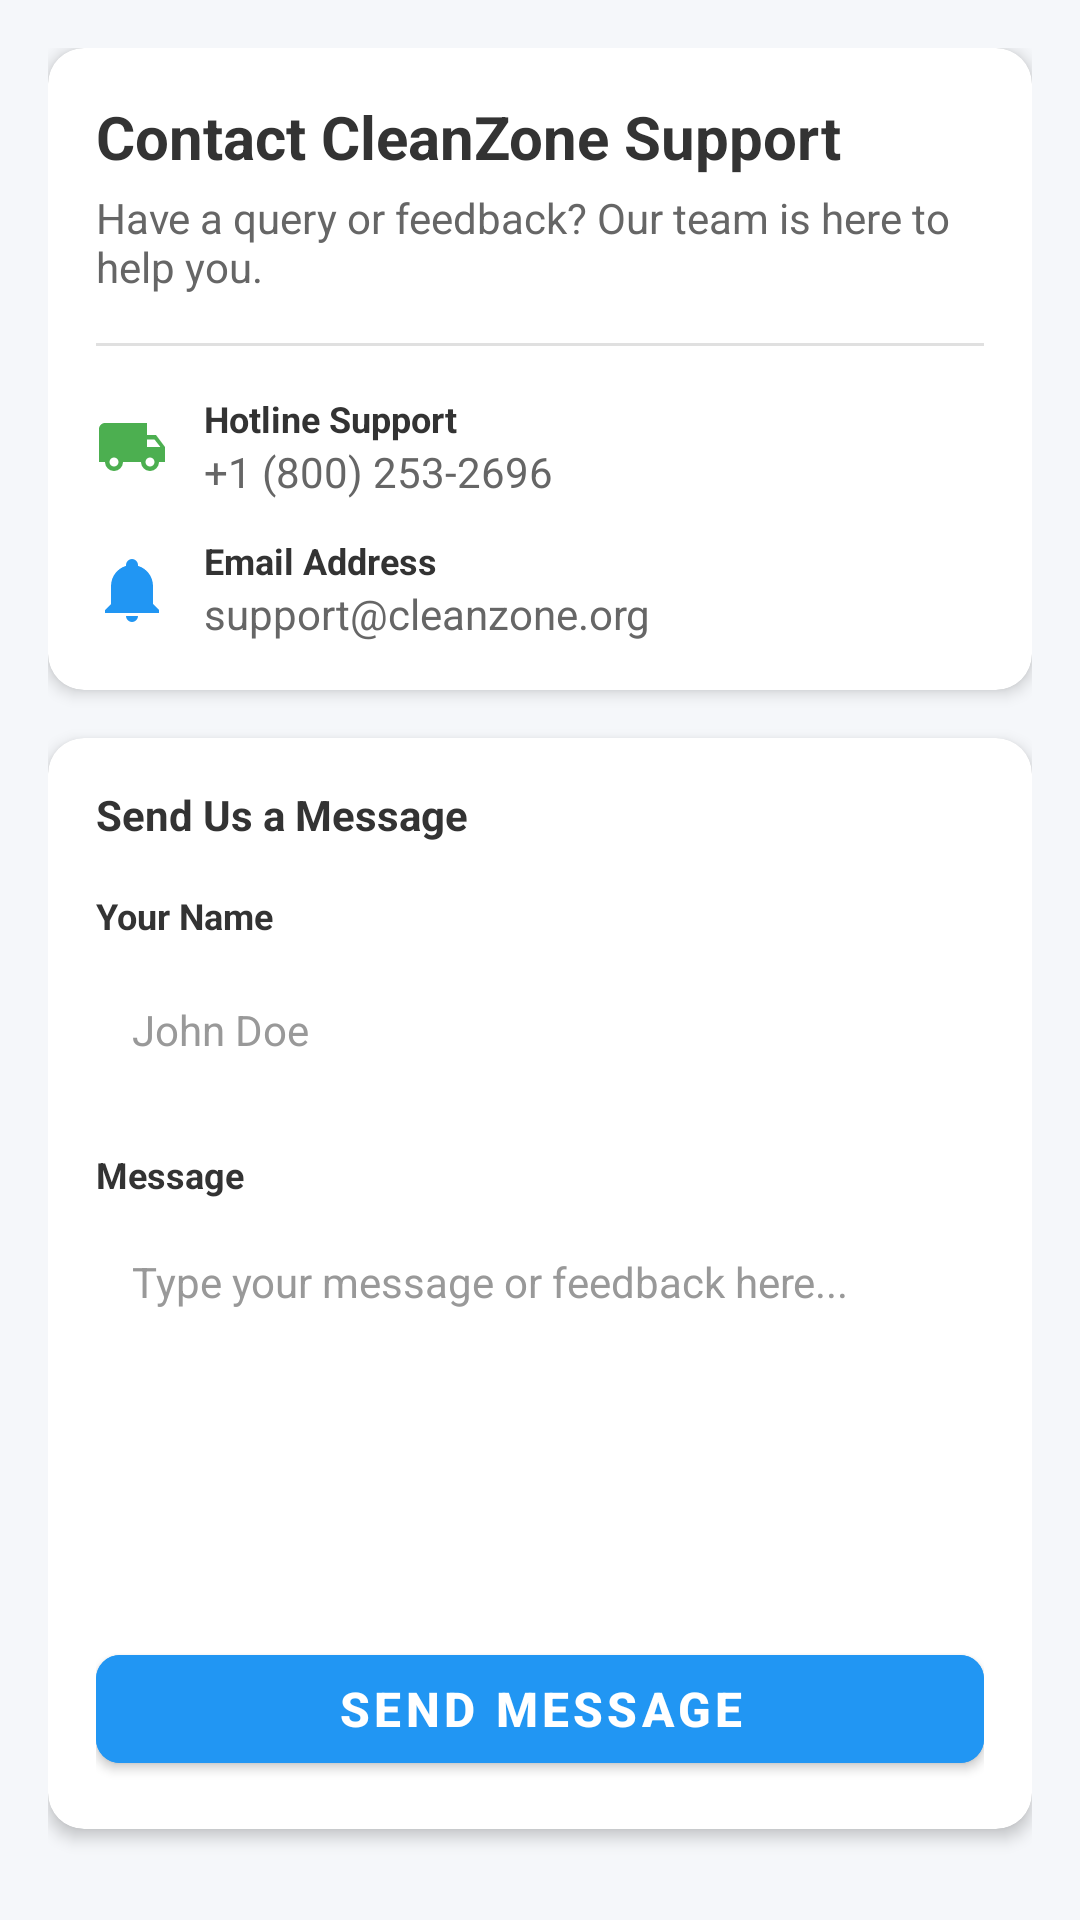

Named icons in this screenshot (1080w x 1920h) and their centers, [x,y]:
bell: [132,590]
truck: [132,447]
